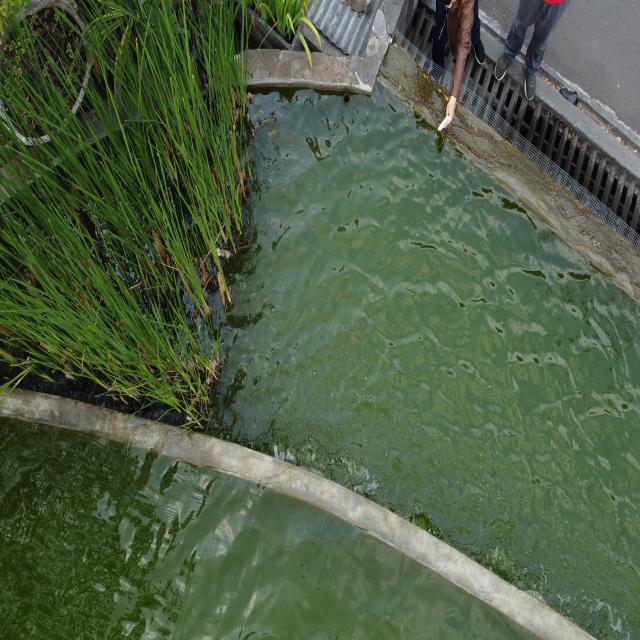Ponds: (1, 33, 640, 640), (1, 385, 595, 640)
